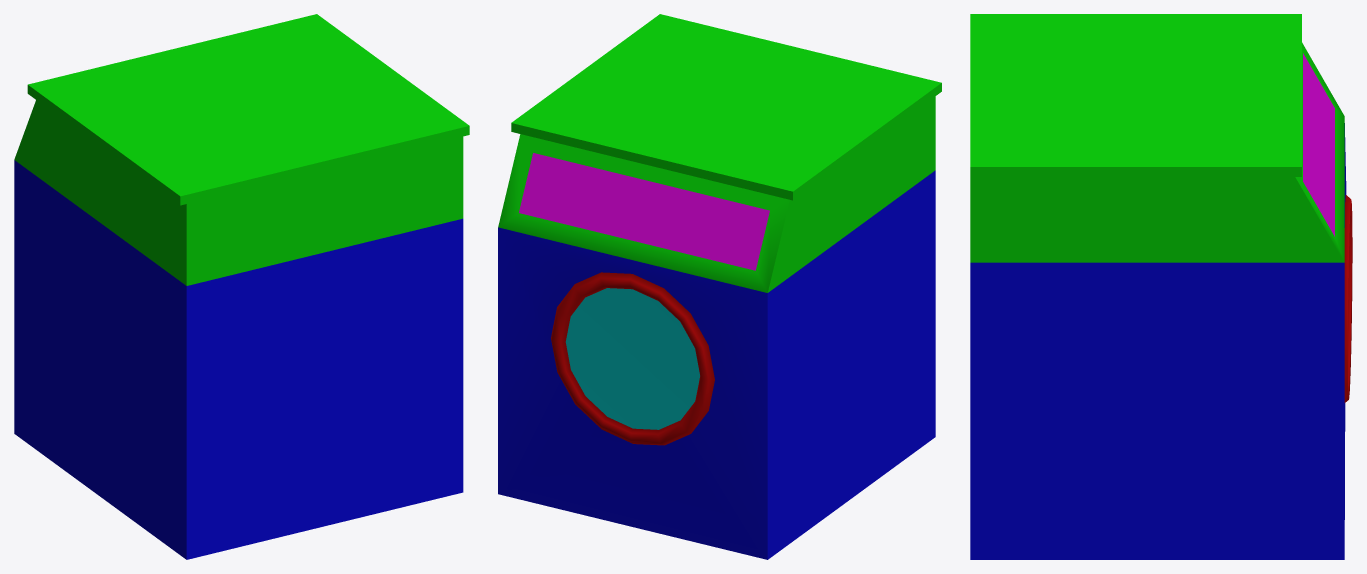
File: SM_WashingMachine.fbx
3 views of the same model, side by side, from view 1: azimuth 30°, elevation 25°; view 2: azimuth 150°, elevation 25°; view 3: azimuth 270°, elevation 25° (orthographic). The views are drawn at different scales.
Parts seen in each view (by area): view 1: polySurface59; view 2: polySurface59; view 3: polySurface59.
Part boxes in pixels (x1,y1,x2,y2): polySurface59: (14, 14, 469, 559); polySurface59: (498, 14, 941, 559); polySurface59: (970, 14, 1352, 559).
Bounding box in the file's own units: 335 × 404 × 353.
